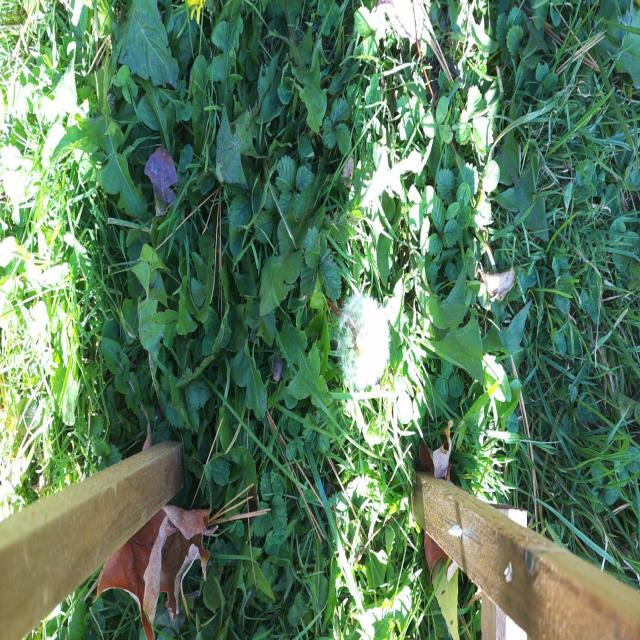base: (316, 285, 338, 317)
flower: (338, 294, 387, 387)
